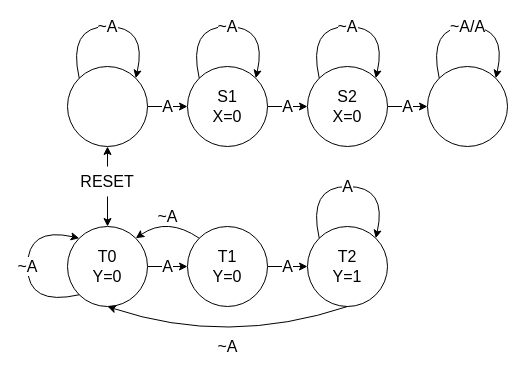
This 525x374 diagram has some shape labels left out. Each missing label, with the centre of its shape:
"S0 X=0" belongs at (x=107, y=106).
"S3 X=1" belongs at (x=467, y=106).
